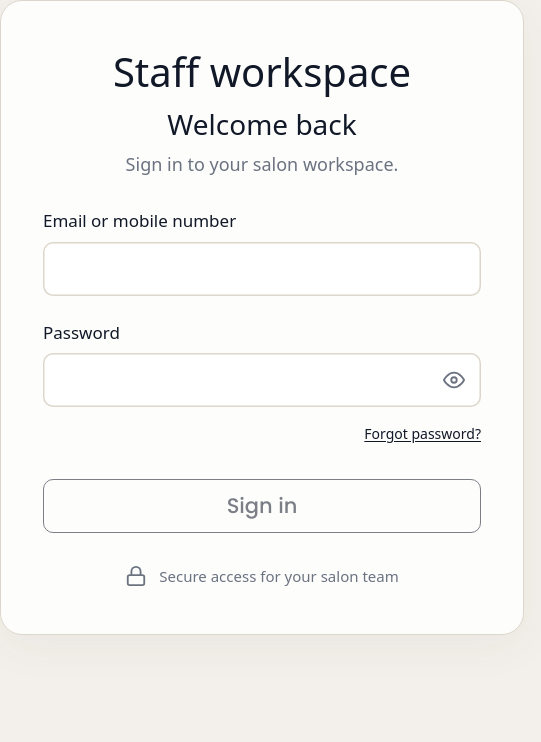
Scenario: reveals the password only on request and offers administrator guidance without a request
The width and height of the screenshot is (541, 742).
Step 1. Type "Synthetic local password" into the password field with test id "account-password" → (235,380), box [43, 353, 427, 407]
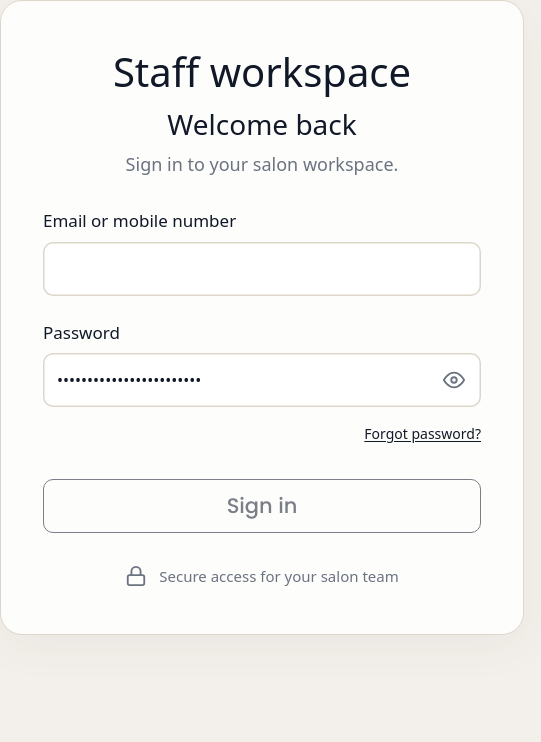
Step 2. Click the button named "Show password" → (454,380), box [427, 358, 481, 402]
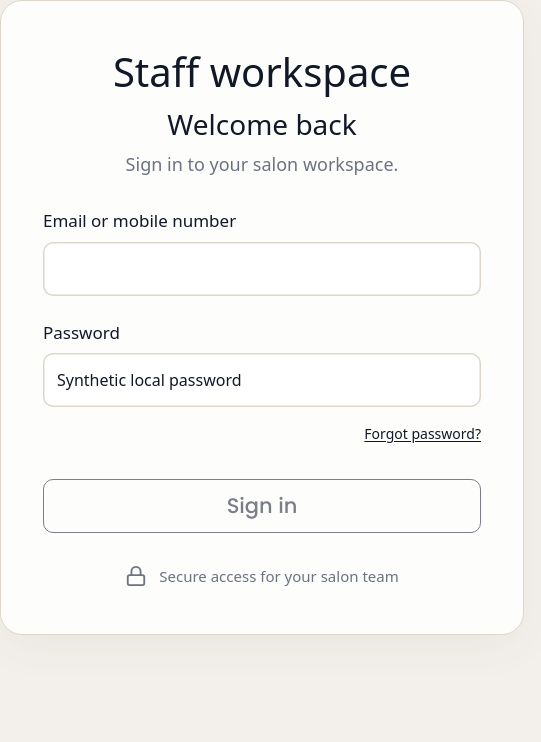
Now the field with test id "account-password" shows its text, box [43, 353, 427, 407]
Step 3. Click the button named "Hide password" → (454,380), box [427, 358, 481, 402]
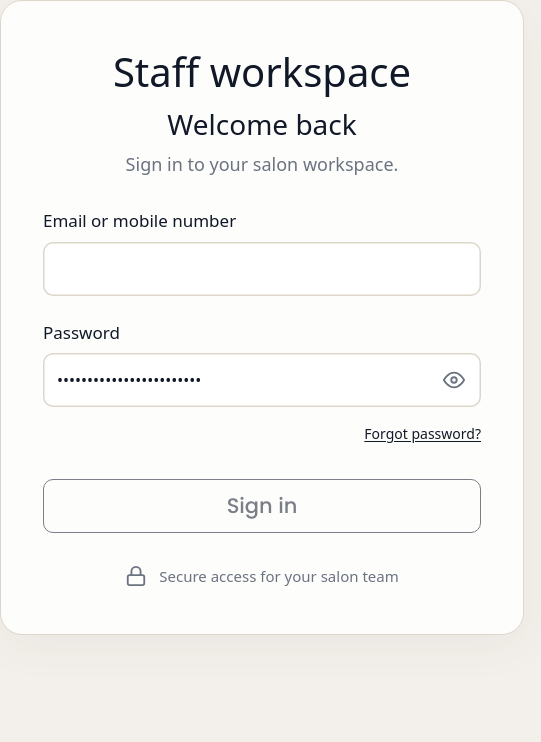
Now the password field with test id "account-password" hides its text, box [43, 353, 427, 407]
Step 4. Click the button "Forgot password?" → (423,433), box [364, 411, 481, 455]
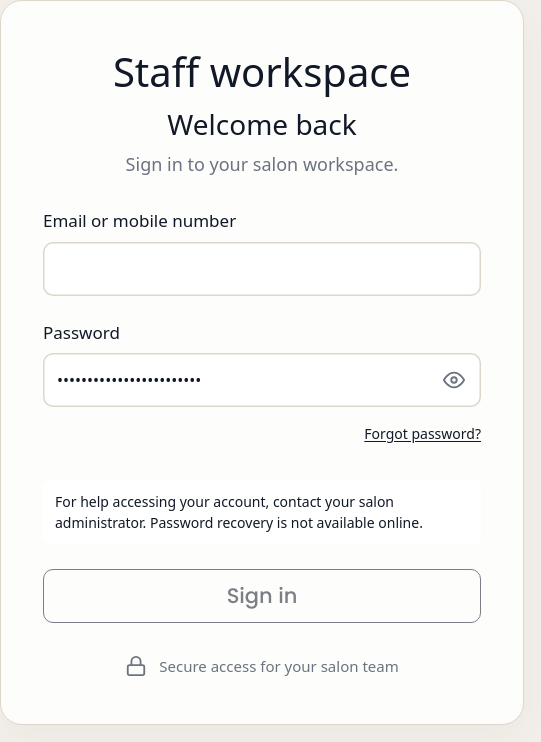
Now the message with test id "account-password-help" shows "contact your salon administrator", box [55, 492, 423, 532]
Step 5. Click the button "Forgot password?" → (423,433), box [364, 411, 481, 455]
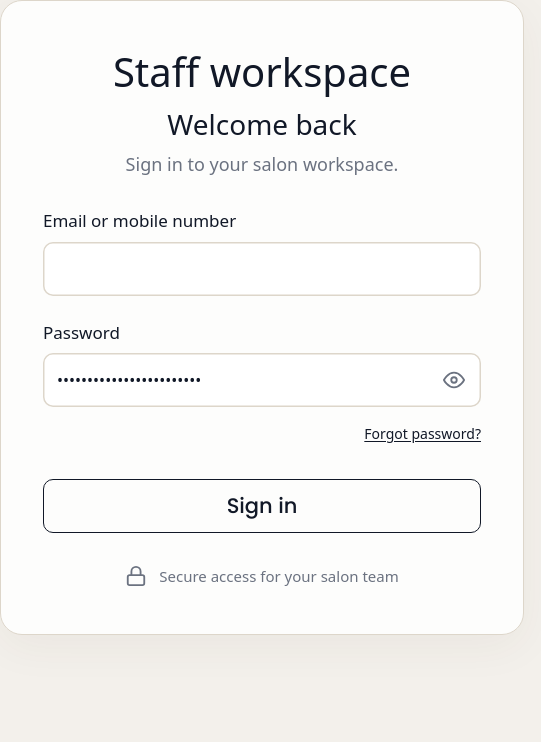
Now the message with test id "account-password-help" is gone
